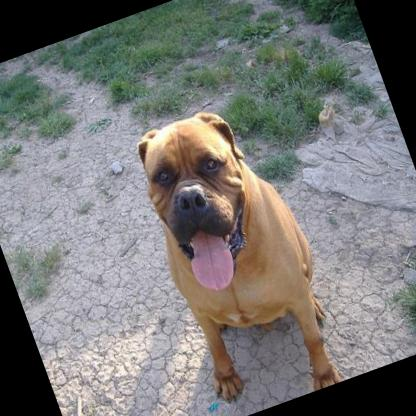bull_mastiff: (118, 89, 356, 416)
